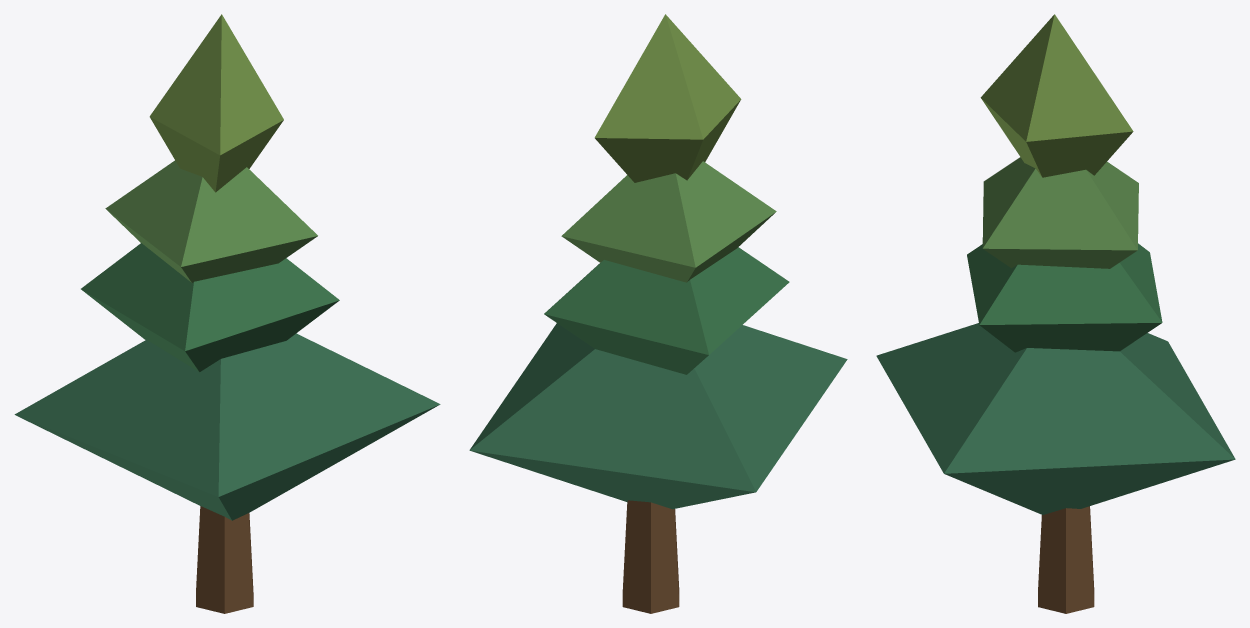
File: tree-pine-canopy-4.gltf
The picture shows the model from 3 angles, left to right: view 1: azimuth 30°, elevation 25°; view 2: azimuth 150°, elevation 25°; view 3: azimuth 270°, elevation 25°; orthographic projection.
Visible parts, largest first — view 1: tree-pine-canopy-4; view 2: tree-pine-canopy-4; view 3: tree-pine-canopy-4.
Boxes of the visible parts, bbox=[...] form: tree-pine-canopy-4: bbox=[14, 14, 440, 613]; tree-pine-canopy-4: bbox=[469, 14, 847, 613]; tree-pine-canopy-4: bbox=[876, 14, 1235, 613].
Size of the model in its own units: 0.9462 by 1.71 by 0.9598.
